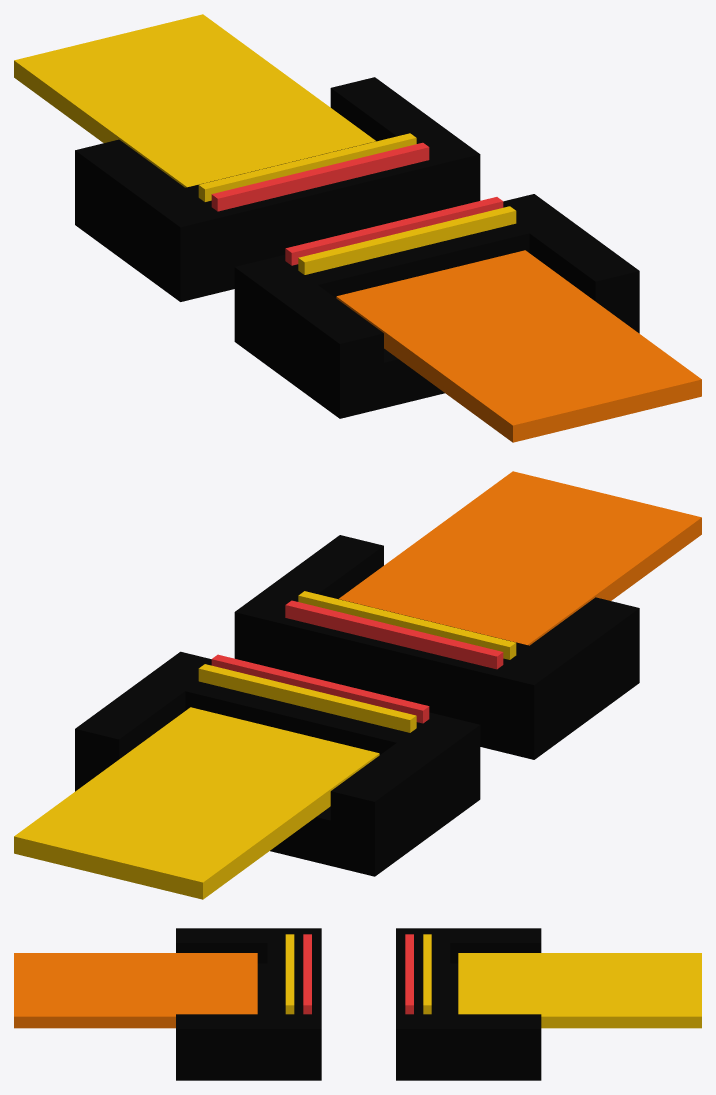
The model's file is cardgame_card.fbx.
3 renders of one model, top to bottom at view 1: azimuth 30°, elevation 25°; view 2: azimuth 150°, elevation 25°; view 3: azimuth 270°, elevation 25°, orthographic. The views are drawn at different scales.
Parts seen in each view (by area): view 1: Cube.001; view 2: Cube.001; view 3: Cube.001.
Part boxes in pixels (x1,y1,x2,y2): Cube.001: [14, 14, 701, 442]; Cube.001: [14, 471, 701, 899]; Cube.001: [14, 928, 701, 1080].
Bounding box in the file's own units: 94.09 × 26.28 × 271.
